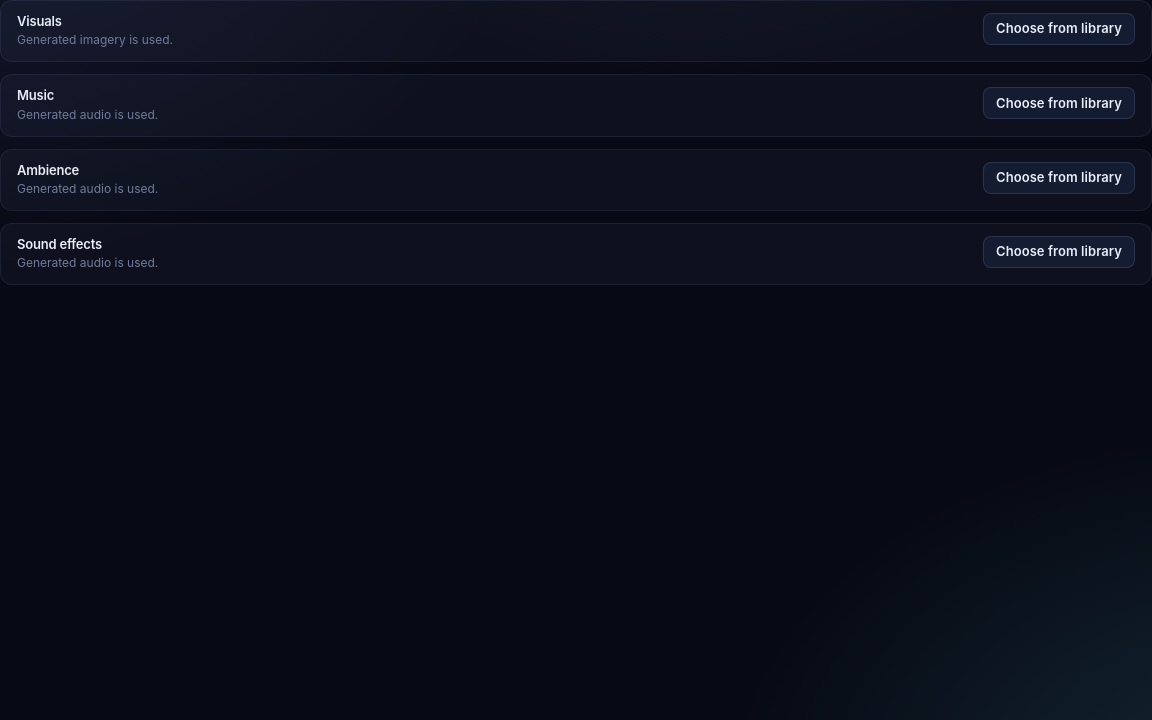
OwnMediaPanel › filters the library down to the kinds a role can take
The width and height of the screenshot is (1152, 720).
Click the button "Choose from library" in the row of "Music". click: (1059, 103)
box: 983,87 -> 1135,119
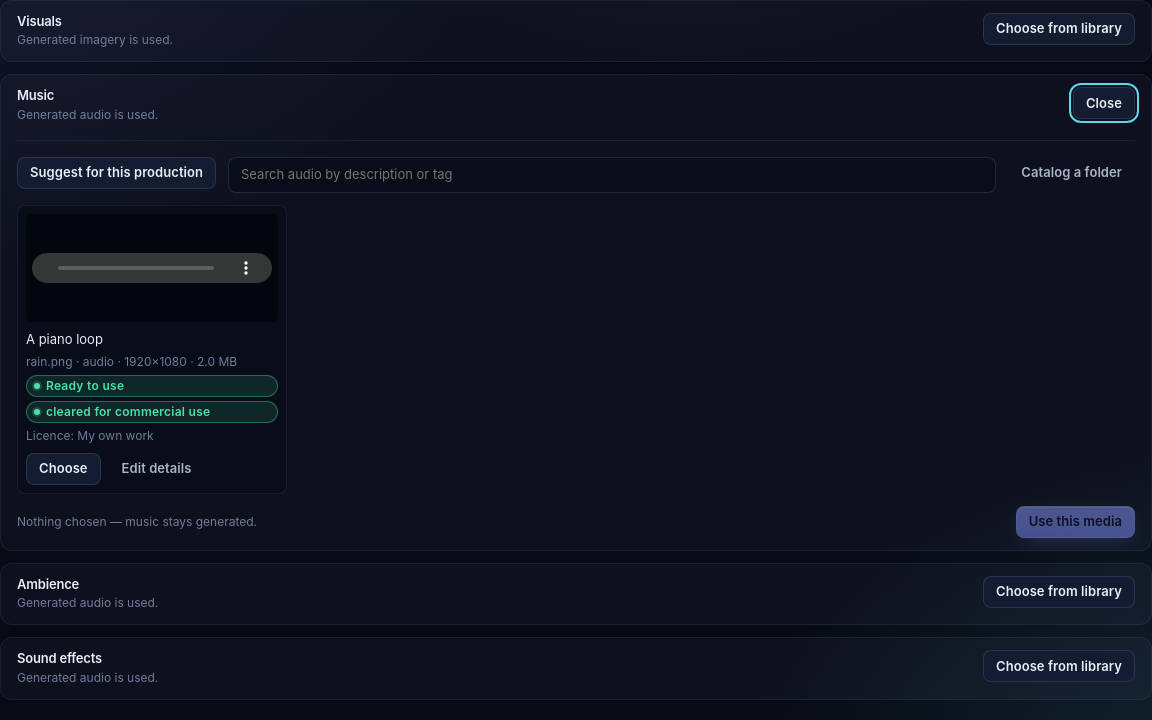
Expected: the text "A piano loop" is shown, 26,330 -> 103,346
